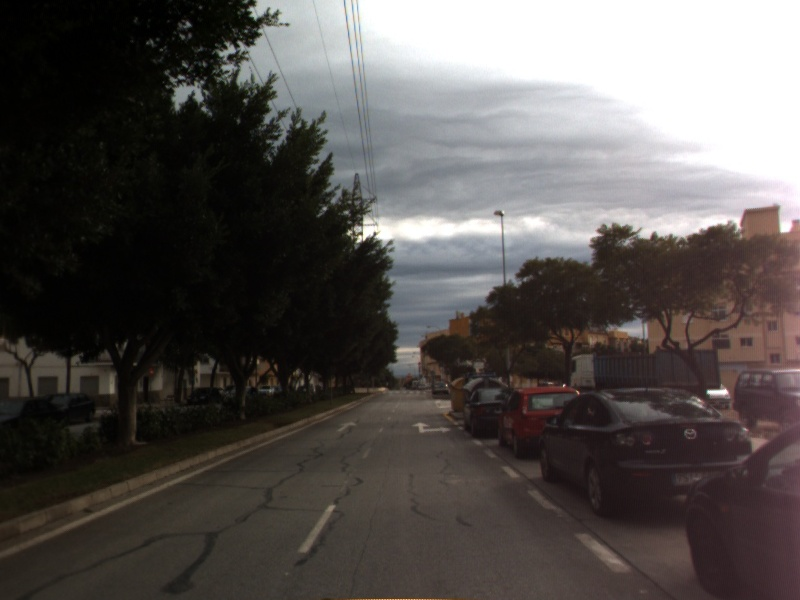STRAIGHT: (334, 419, 359, 434)
STRAIGHT_RIGHT: (409, 420, 454, 435)
